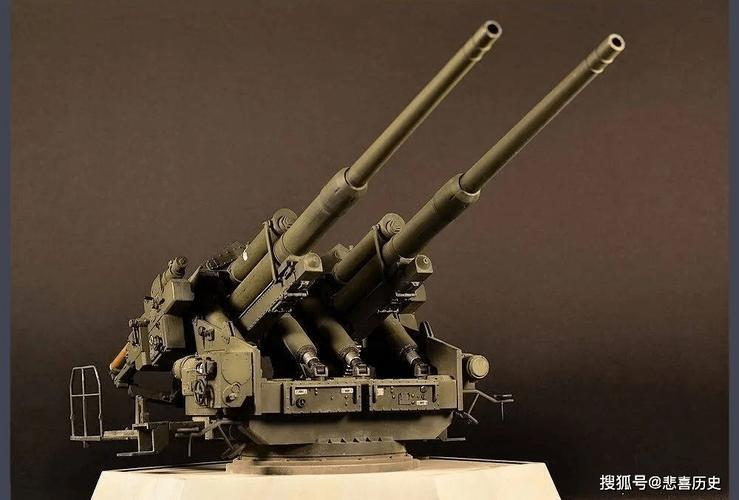MIL_SPG: (71, 22, 624, 473)
